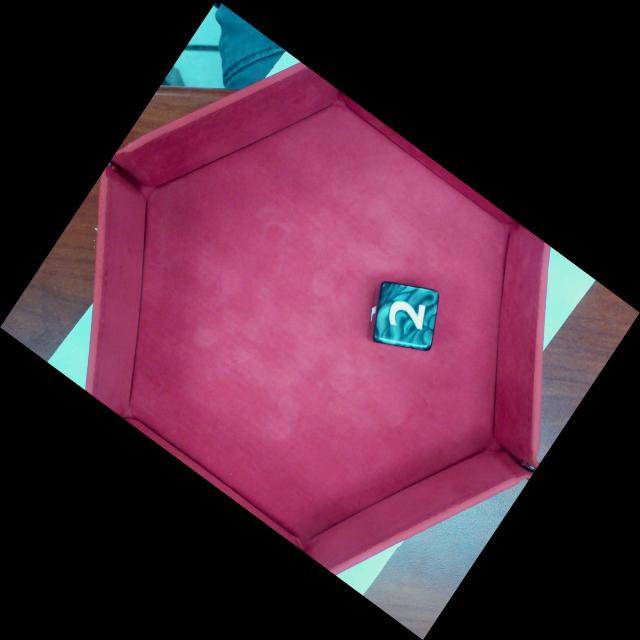dice: (371, 280, 442, 352)
